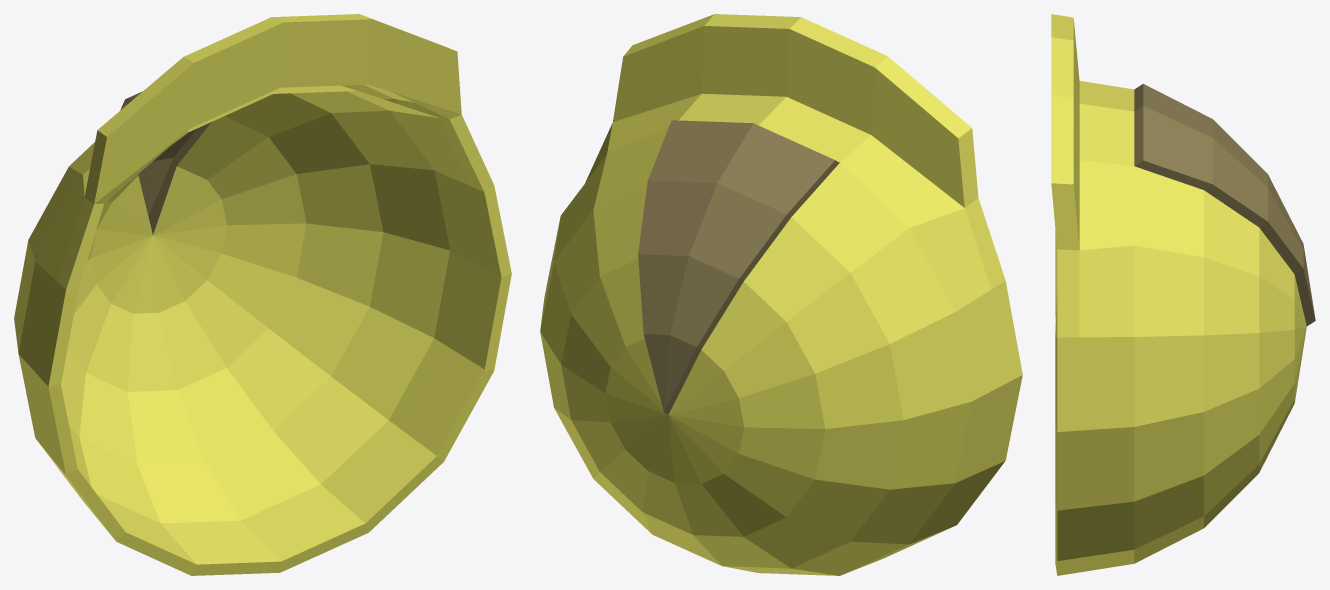
Rendered from ConstructionHat.fbx.
3 views of the same model, side by side, from view 1: azimuth 30°, elevation 25°; view 2: azimuth 150°, elevation 25°; view 3: azimuth 270°, elevation 25° (orthographic). The views are drawn at different scales.
Visible parts, largest first — view 1: Sphere.004; view 2: Sphere.004; view 3: Sphere.004.
Boxes of the visible parts, x1,y1,x2,y2 form: Sphere.004: (14,14,511,575); Sphere.004: (540,14,1022,575); Sphere.004: (1051,14,1315,575).
Bounding box in the file's own units: 80 × 91.16 × 42.38.
